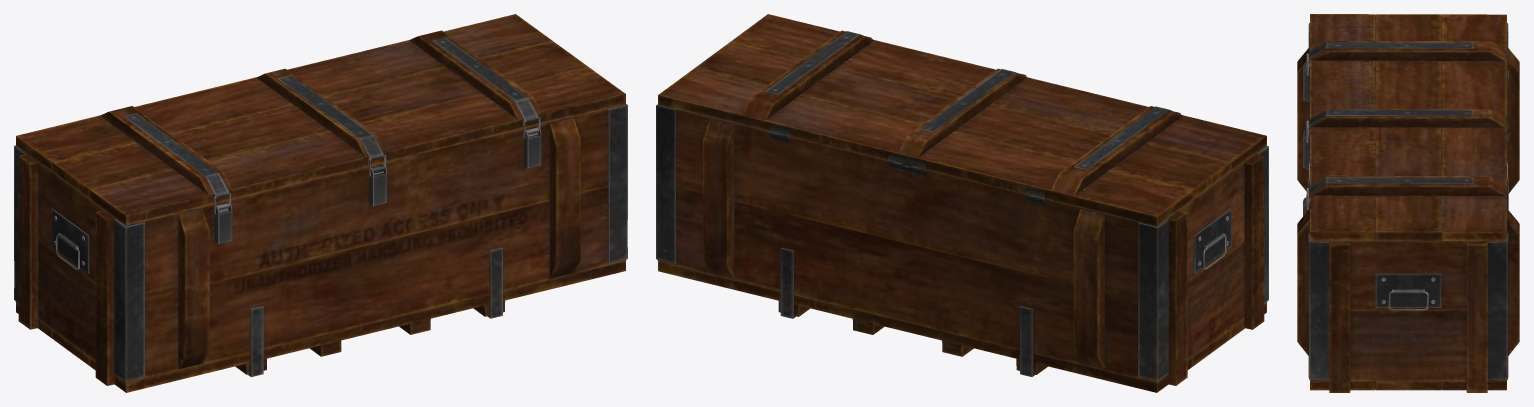
Rendered from wooden_military_crate.glb.
The picture shows the model from 3 angles, left to right: view 1: azimuth 30°, elevation 25°; view 2: azimuth 150°, elevation 25°; view 3: azimuth 270°, elevation 25°; orthographic projection. The views are drawn at different scales.
Visible parts, largest first — view 1: wooden_military_crate; view 2: wooden_military_crate; view 3: wooden_military_crate.
Boxes of the visible parts, x1,y1,x2,y2 form: wooden_military_crate: (14,14,627,392); wooden_military_crate: (656,14,1268,392); wooden_military_crate: (1297,14,1519,392).
Size of the model in its own units: 1.24 by 0.4642 by 0.5179.
1 material, 1 textured.
